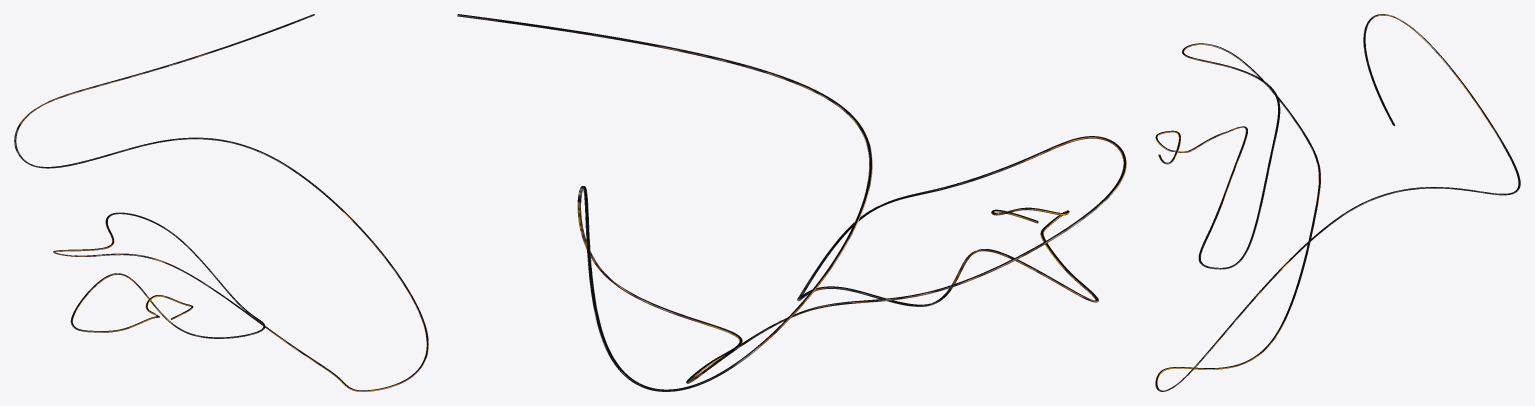
File: RENDER NIVEL 0 (1).fbx
3 renders of one model, left to right at view 1: azimuth 30°, elevation 25°; view 2: azimuth 150°, elevation 25°; view 3: azimuth 270°, elevation 25°, orthographic. The views are drawn at different scales.
Parts seen in each view (by area): view 1: NIVEL 0; view 2: NIVEL 0; view 3: NIVEL 0.
Boxes of the visible parts, left/top/right/bottom form: NIVEL 0: left=14, top=14, right=428, bottom=391; NIVEL 0: left=457, top=14, right=1126, bottom=391; NIVEL 0: left=1155, top=14, right=1520, bottom=391.
Bounding box in the file's own units: 33419 × 25098 × 29716.
2 materials, 1 textured.
